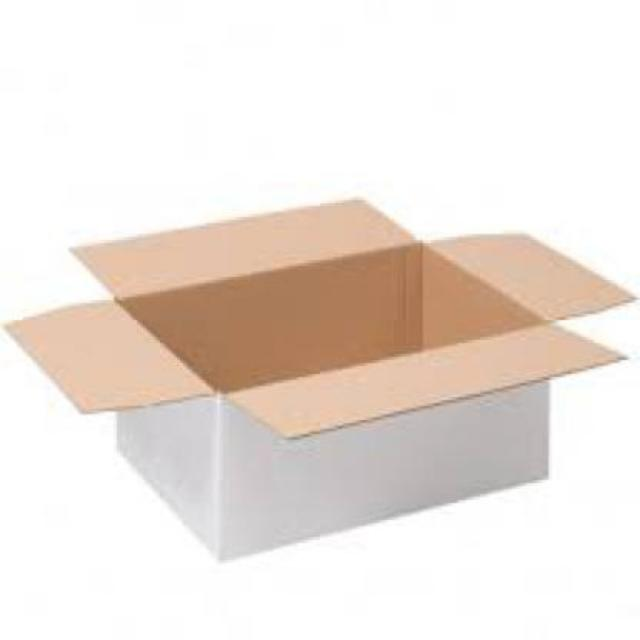cardboard_box: (14, 205, 640, 549)
